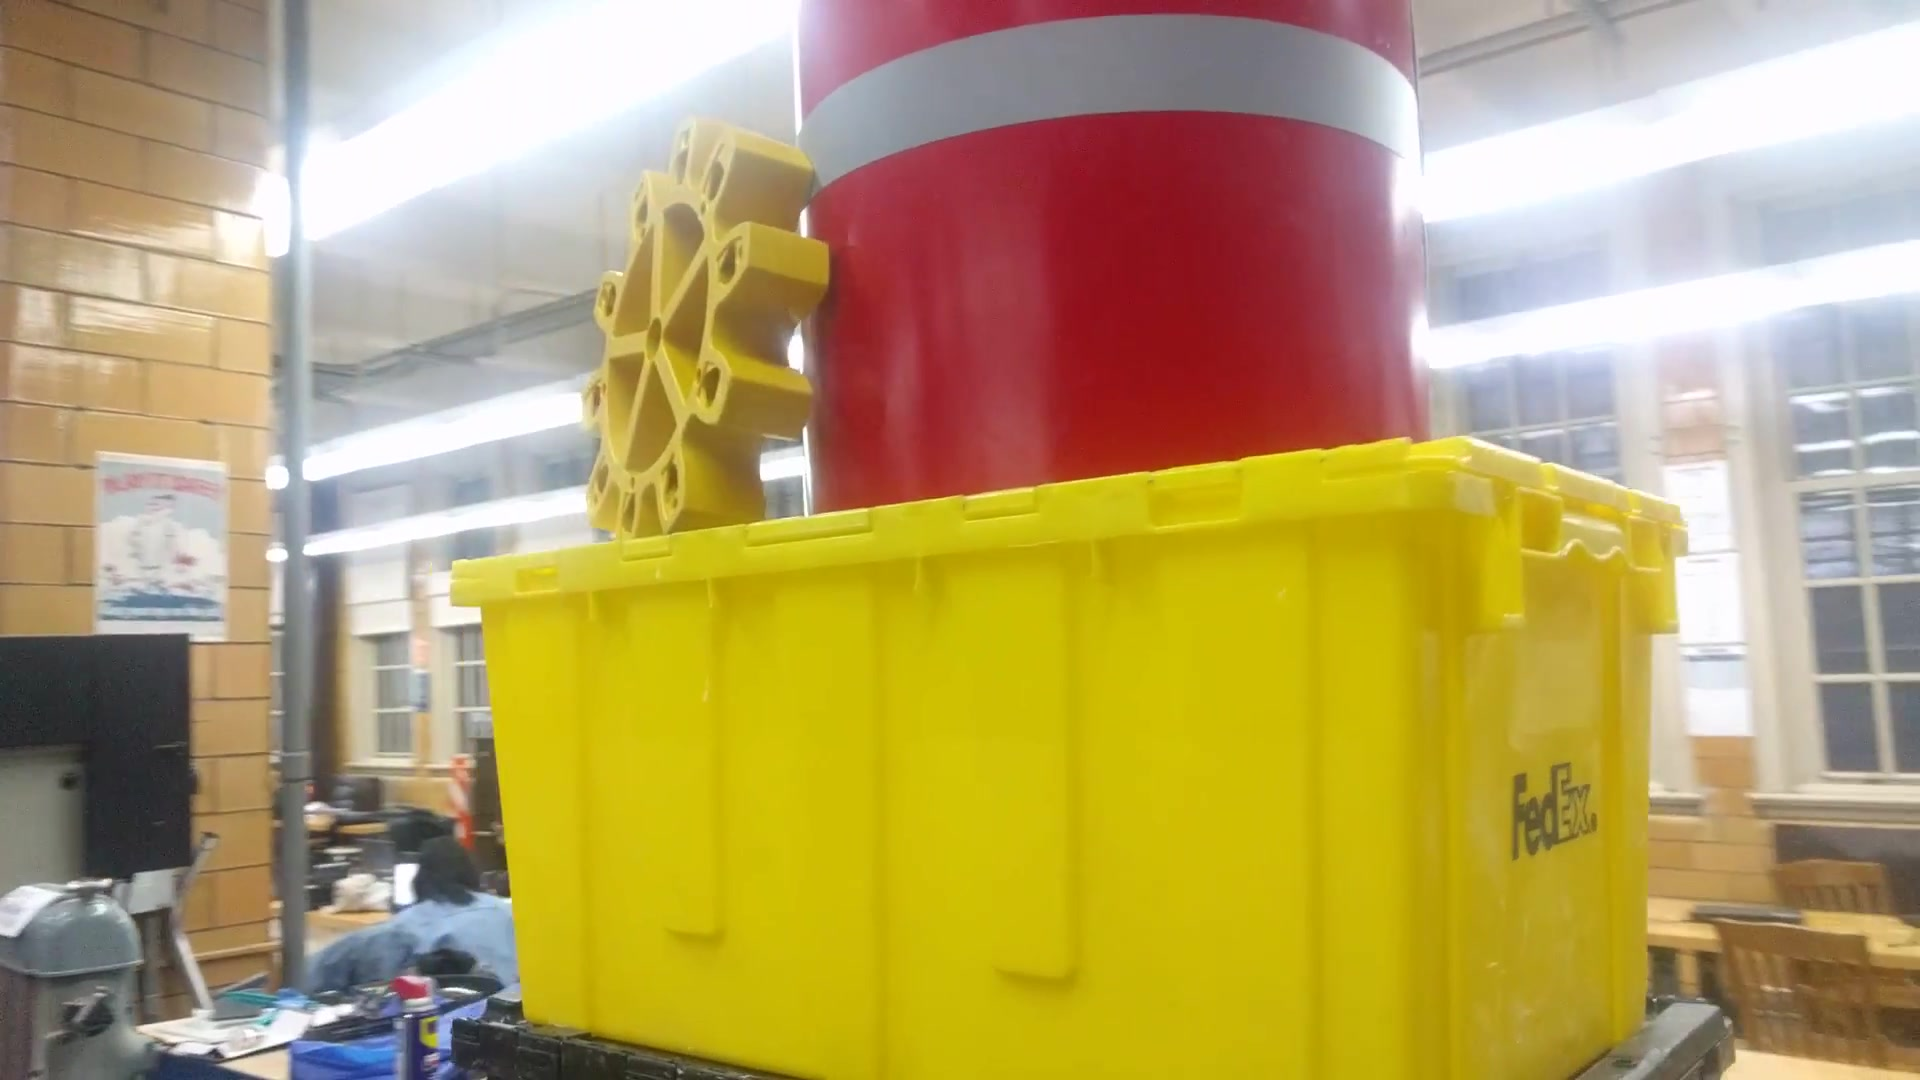gear: (579, 109, 822, 562)
